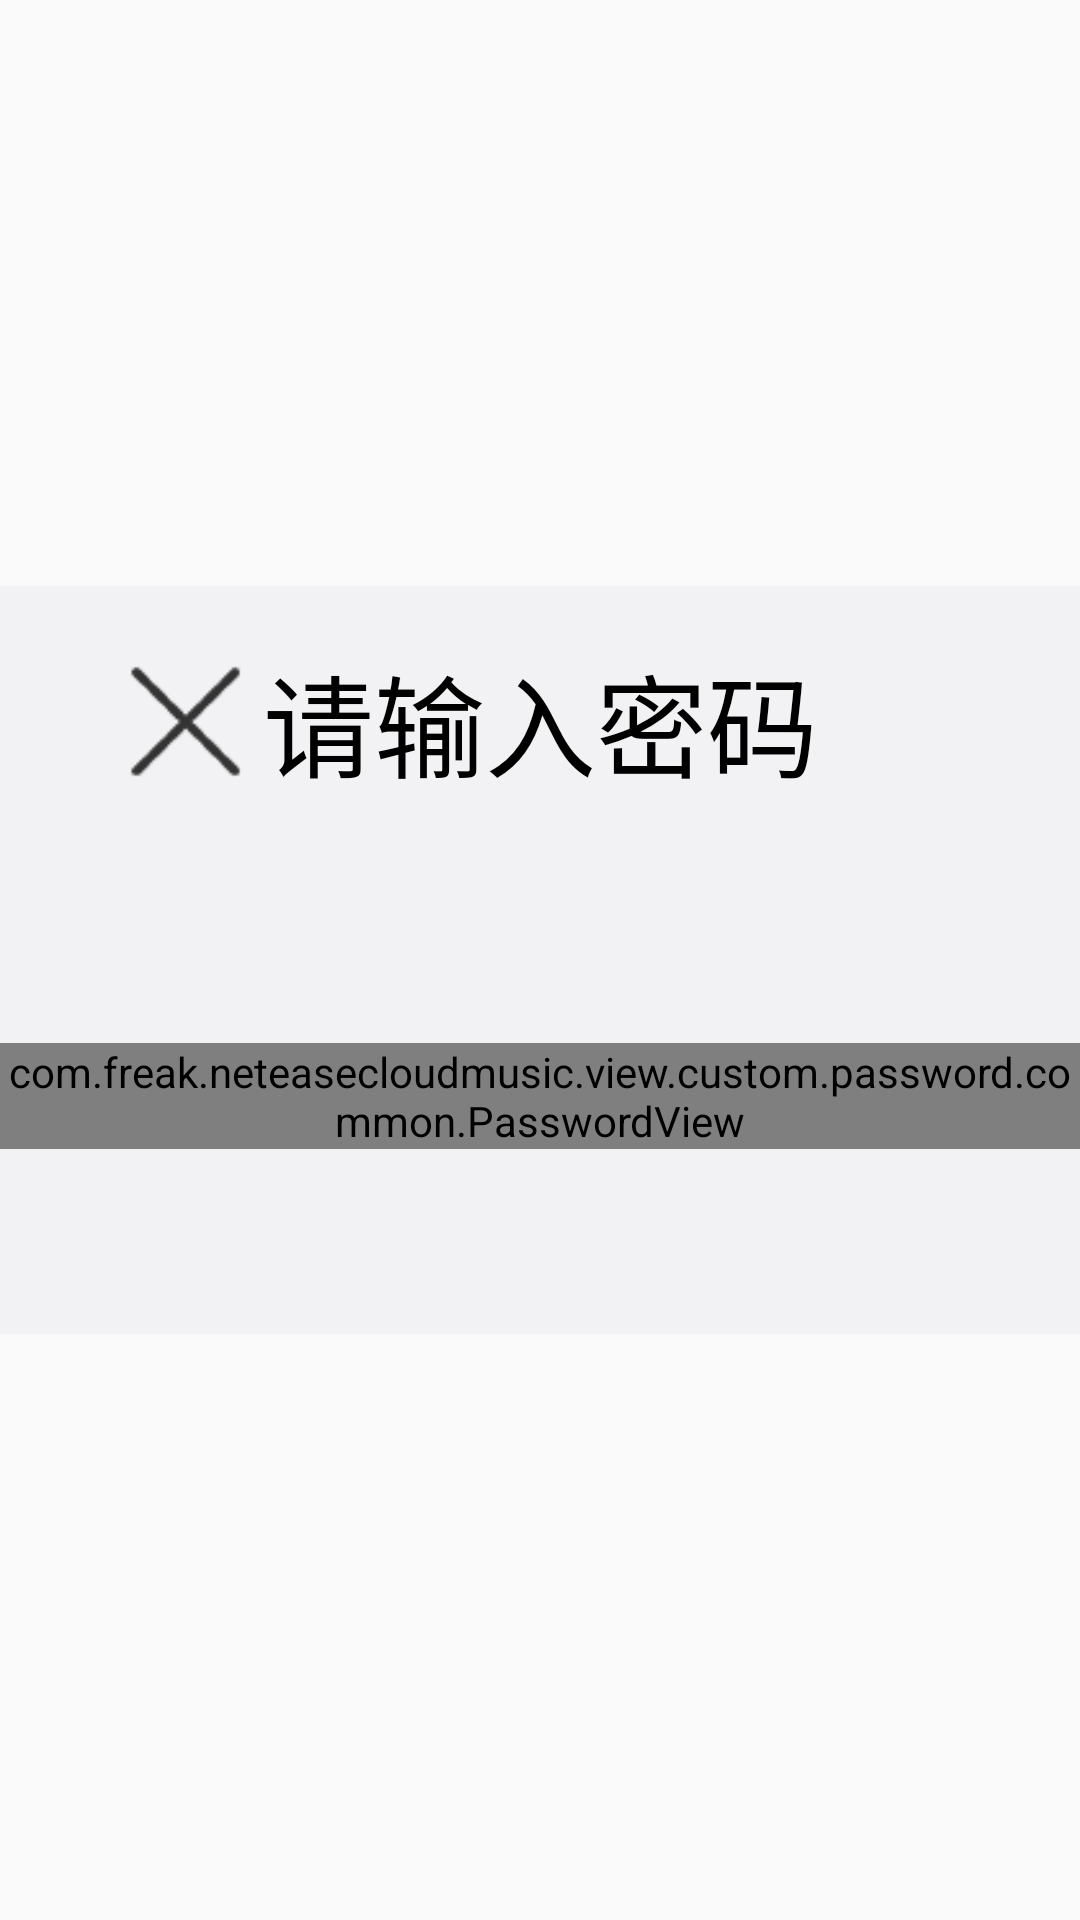

Where icons sit on this 1080px×1920px app screen, as box(x1, y1, x2, y2):
close: box(131, 667, 240, 776)
